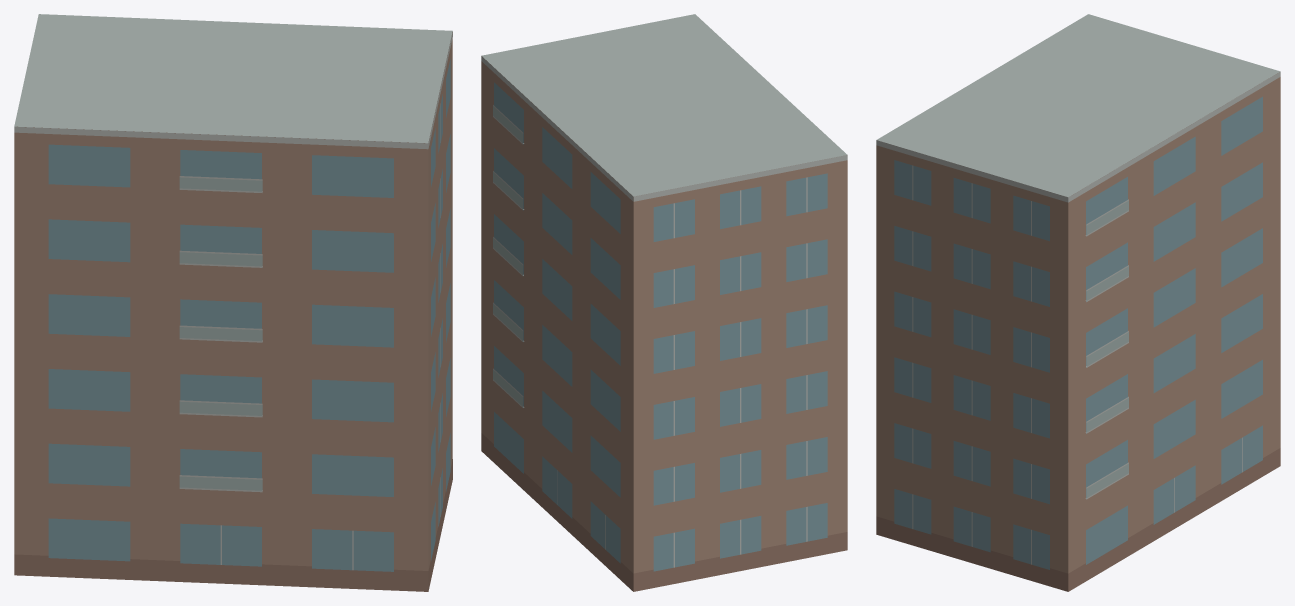
Rendered from survey-upis-33039184.glb.
The picture shows the model from 3 angles, left to right: view 1: azimuth 30°, elevation 25°; view 2: azimuth 150°, elevation 25°; view 3: azimuth 270°, elevation 25°; orthographic projection. The views are drawn at different scales.
Parts seen in each view (by area): view 1: survey-upis-33039184.tmp; view 2: survey-upis-33039184.tmp; view 3: survey-upis-33039184.tmp.
Part boxes in pixels (x1=…): survey-upis-33039184.tmp: x1=14, y1=14, x2=452, y2=591; survey-upis-33039184.tmp: x1=481, y1=14, x2=847, y2=591; survey-upis-33039184.tmp: x1=876, y1=14, x2=1280, y2=591.
Size of the model in its own units: 18.24 by 18.3 by 17.
